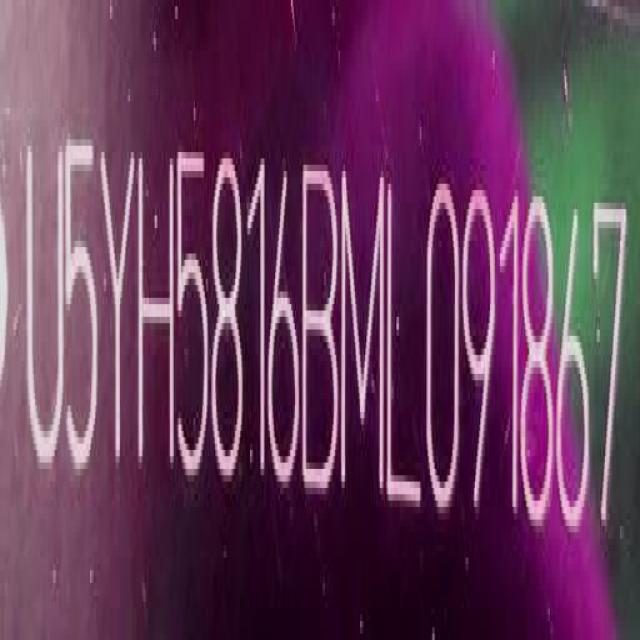0: (426, 175, 461, 522)
1: (497, 188, 522, 535), (248, 152, 267, 494)
5: (64, 138, 100, 489), (179, 145, 210, 489)
6: (558, 194, 590, 542), (269, 149, 300, 495)
7: (600, 192, 631, 545)
8: (522, 194, 556, 536), (211, 150, 242, 492)
9: (464, 186, 497, 529)
B: (302, 151, 342, 503)
H: (137, 141, 177, 479)
L: (384, 148, 425, 528)
M: (337, 158, 386, 510)
U: (22, 131, 66, 507)
Y: (98, 141, 136, 467)
